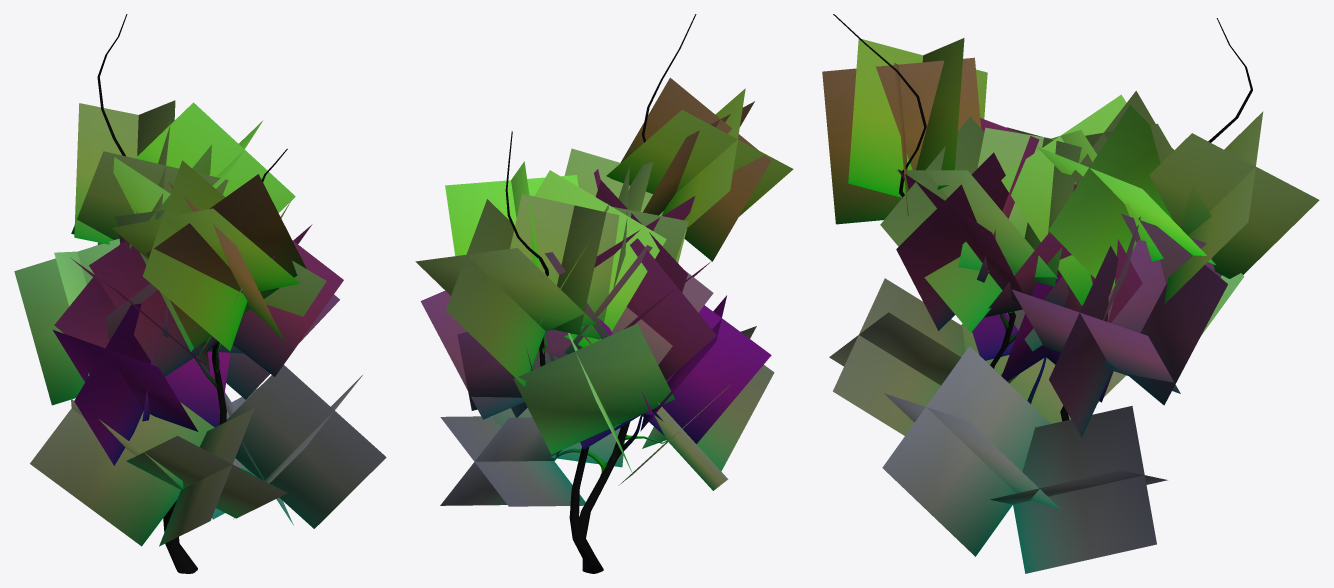
File: URP_P12_Tree_15_LOD_1.fbx
The picture shows the model from 3 angles, left to right: view 1: azimuth 30°, elevation 25°; view 2: azimuth 150°, elevation 25°; view 3: azimuth 270°, elevation 25°; orthographic projection. The views are drawn at different scales.
Parts seen in each view (by area): view 1: Tree_15_LOD_1; view 2: Tree_15_LOD_1; view 3: Tree_15_LOD_1.
Part boxes in pixels (x1,y1,x2,y2): Tree_15_LOD_1: (14,14,386,573); Tree_15_LOD_1: (415,14,793,573); Tree_15_LOD_1: (822,14,1319,573).
Bounding box in the file's own units: 165 × 266 × 219.
